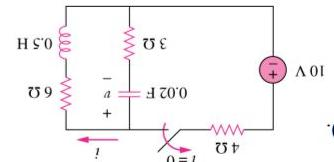Capacitor: (113, 77, 142, 105)
